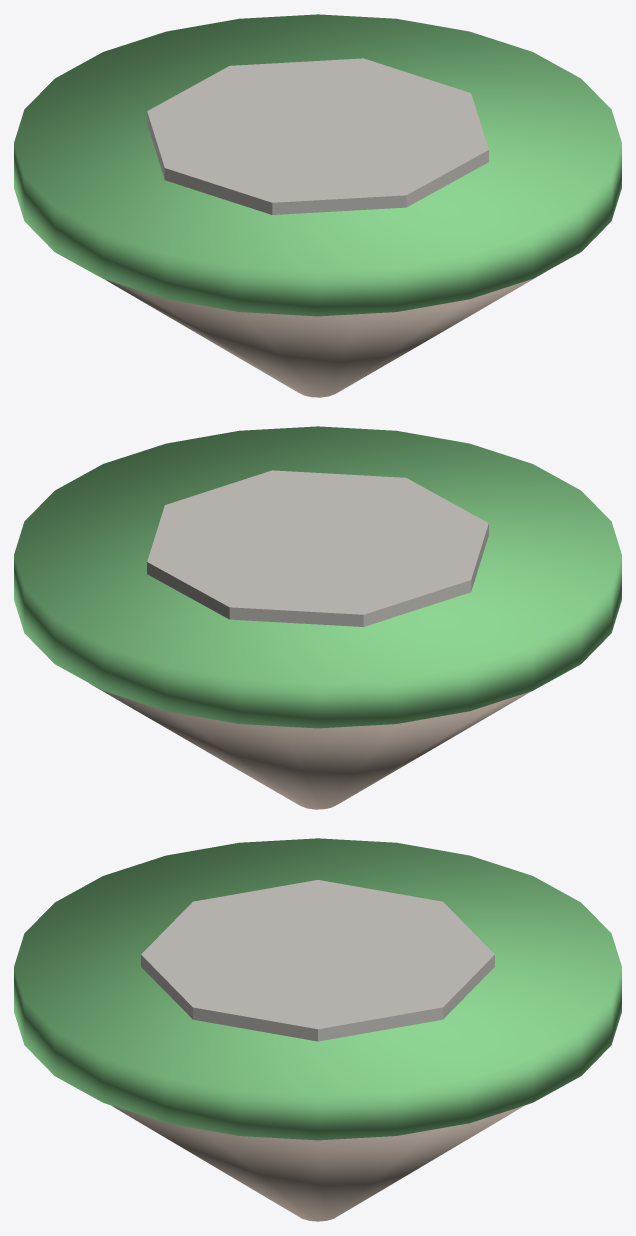
File: island_portal.glb
3 renders of one model, top to bottom at view 1: azimuth 30°, elevation 25°; view 2: azimuth 150°, elevation 25°; view 3: azimuth 270°, elevation 25°, orthographic.
Parts seen in each view (by area): view 1: PortalGrass, PortalDais, PortalCliff; view 2: PortalGrass, PortalDais, PortalCliff; view 3: PortalGrass, PortalDais, PortalCliff.
Boxes of the visible parts, <box> form: PortalGrass: <box>14,14,621,316</box>; PortalDais: <box>147,58,488,214</box>; PortalCliff: <box>105,271,546,397</box>; PortalGrass: <box>14,426,621,728</box>; PortalDais: <box>147,470,488,626</box>; PortalCliff: <box>89,683,530,809</box>; PortalGrass: <box>14,838,621,1140</box>; PortalDais: <box>141,880,494,1041</box>; PortalCliff: <box>111,1105,524,1221</box>.
Bounding box in the file's own units: 11 × 5.15 × 11.
